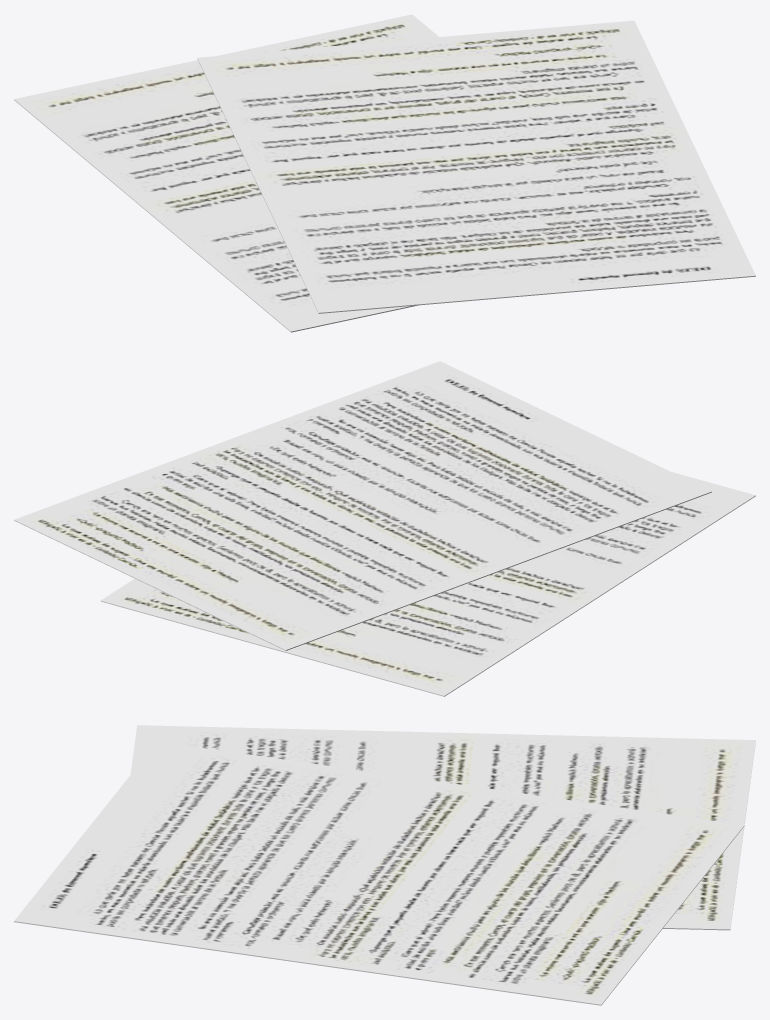
Rendered from Papers.FBX.
3 views of the same model, one above another, from view 1: azimuth 30°, elevation 25°; view 2: azimuth 150°, elevation 25°; view 3: azimuth 270°, elevation 25° (orthographic). The views are drawn at different scales.
Visible parts, largest first — view 1: Paper, Paper 2; view 2: Paper, Paper 2; view 3: Paper, Paper 2.
Part boxes in pixels (box(x1,y1,x2,y2)): Paper: box(197, 20, 755, 313); Paper 2: box(14, 14, 438, 332); Paper: box(14, 361, 711, 650); Paper 2: box(100, 472, 755, 696); Paper: box(14, 741, 744, 1005); Paper 2: box(130, 725, 755, 930).
Bounding box in the file's own units: 31.21 × 0.167 × 34.72.
Materials: 1 (1 with a texture image).
